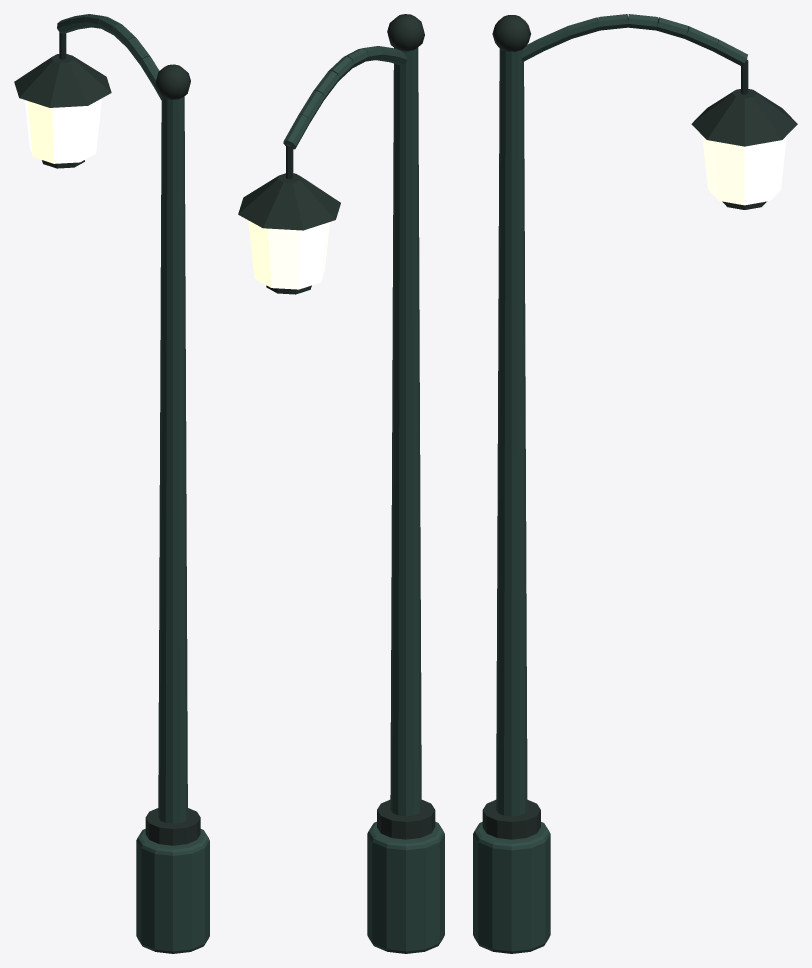
The model's file is street-lamp.glb.
The picture shows the model from 3 angles, left to right: view 1: azimuth 30°, elevation 25°; view 2: azimuth 150°, elevation 25°; view 3: azimuth 270°, elevation 25°; orthographic projection. The views are drawn at different scales.
Visible parts, largest first — view 1: StreetLamp_m_lamp_post, StreetLamp_m_lamp_dark, StreetLamp_m_glow_glow; view 2: StreetLamp_m_lamp_post, StreetLamp_m_lamp_dark, StreetLamp_m_glow_glow; view 3: StreetLamp_m_lamp_post, StreetLamp_m_lamp_dark, StreetLamp_m_glow_glow.
Part boxes in pixels (x1=…): StreetLamp_m_lamp_post: x1=57, y1=14, x2=209, y2=953; StreetLamp_m_lamp_dark: x1=14, y1=32, x2=200, y2=845; StreetLamp_m_glow_glow: x1=25, y1=98, x2=101, y2=163; StreetLamp_m_lamp_post: x1=283, y1=46, x2=444, y2=953; StreetLamp_m_lamp_dark: x1=238, y1=14, x2=435, y2=839; StreetLamp_m_glow_glow: x1=248, y1=220, x2=329, y2=289; StreetLamp_m_lamp_post: x1=473, y1=14, x2=747, y2=953; StreetLamp_m_lamp_dark: x1=482, y1=15, x2=797, y2=839; StreetLamp_m_glow_glow: x1=702, y1=135, x2=786, y2=205.
Size of the model in its own units: 0.44 by 4.21 by 1.34.
